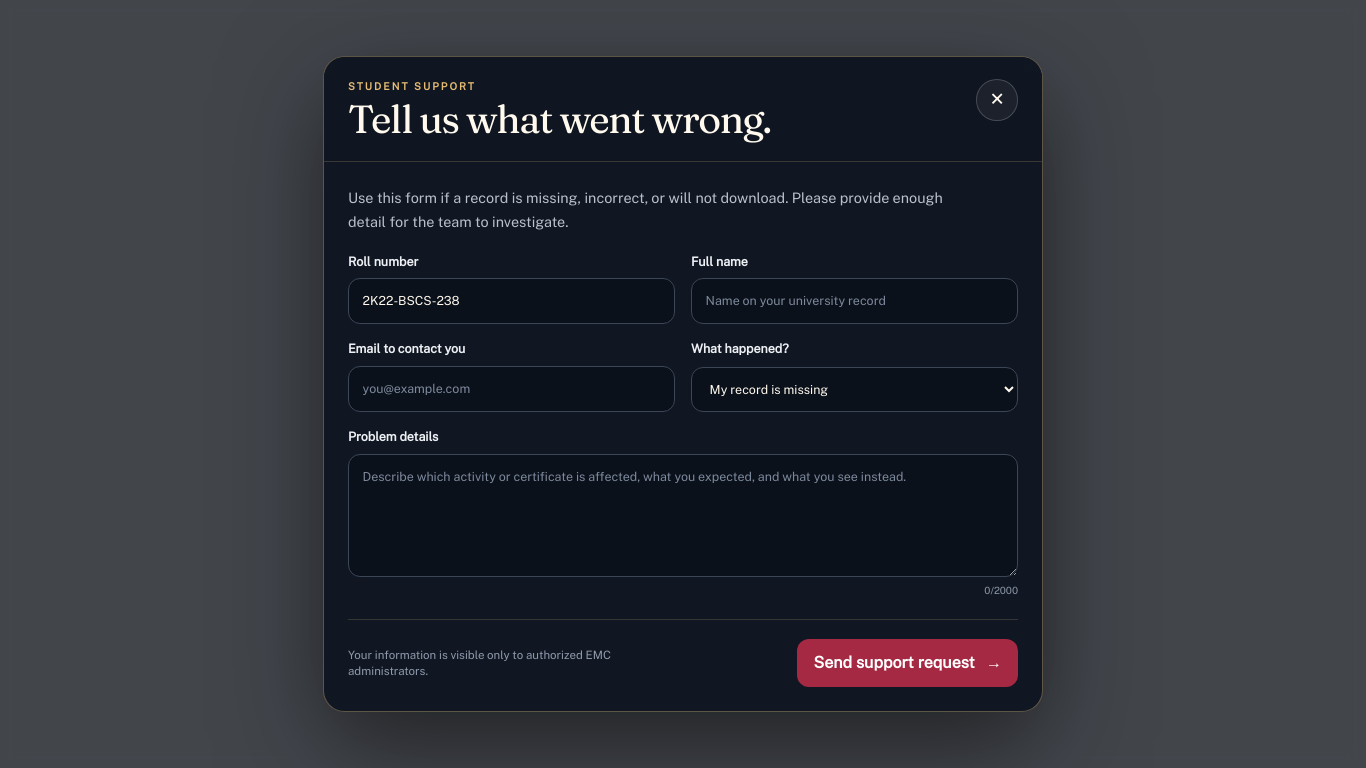
it: submits a student support request and shows its private reference
The width and height of the screenshot is (1366, 768).
Expected: the field showing "2K22-BSCS-238" is shown, [348,278,675,324]
Type "Student Name" into the field labelled "Full name".
click(854, 301); type("Student Name")  # box [691,278,1018,324]
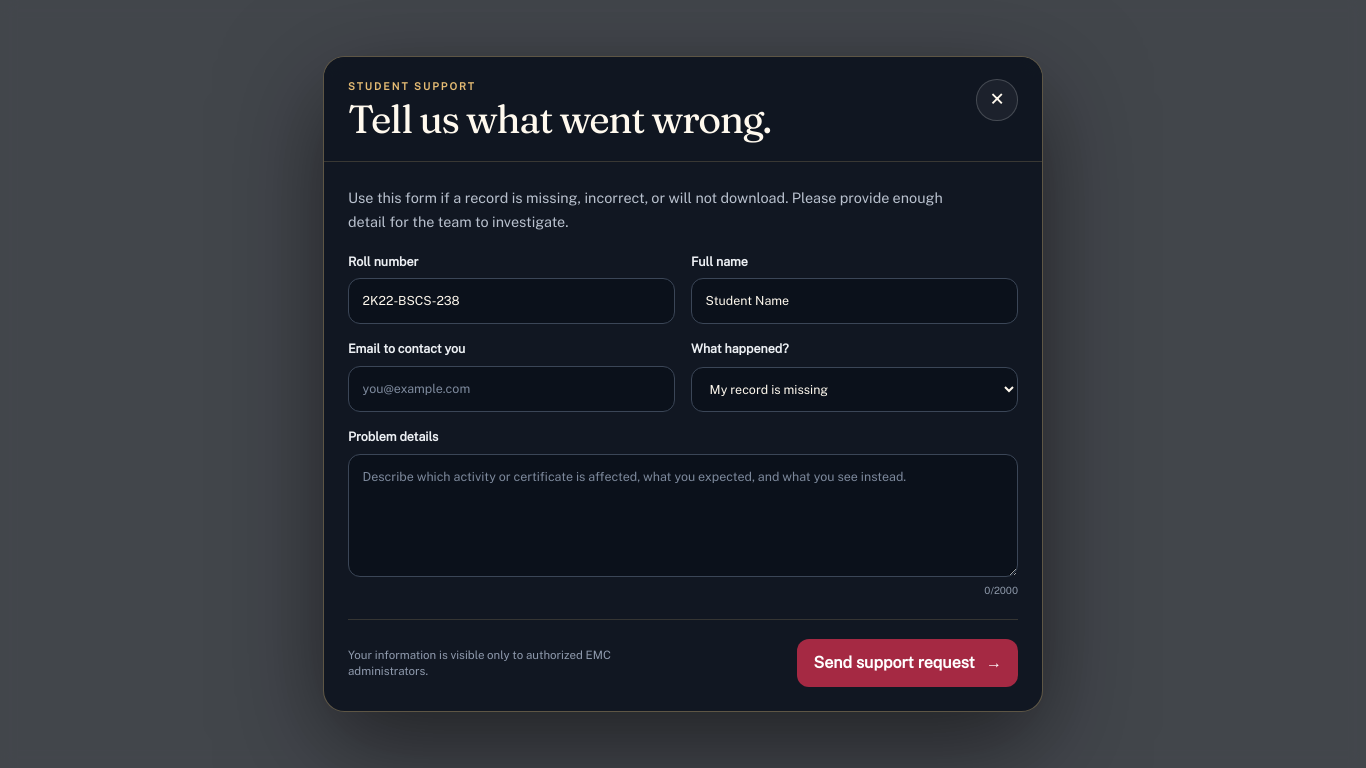
Type "student@example.com" into the field labelled "Email to contact you".
click(512, 389); type("student@example.com")  # box [348,366,675,412]
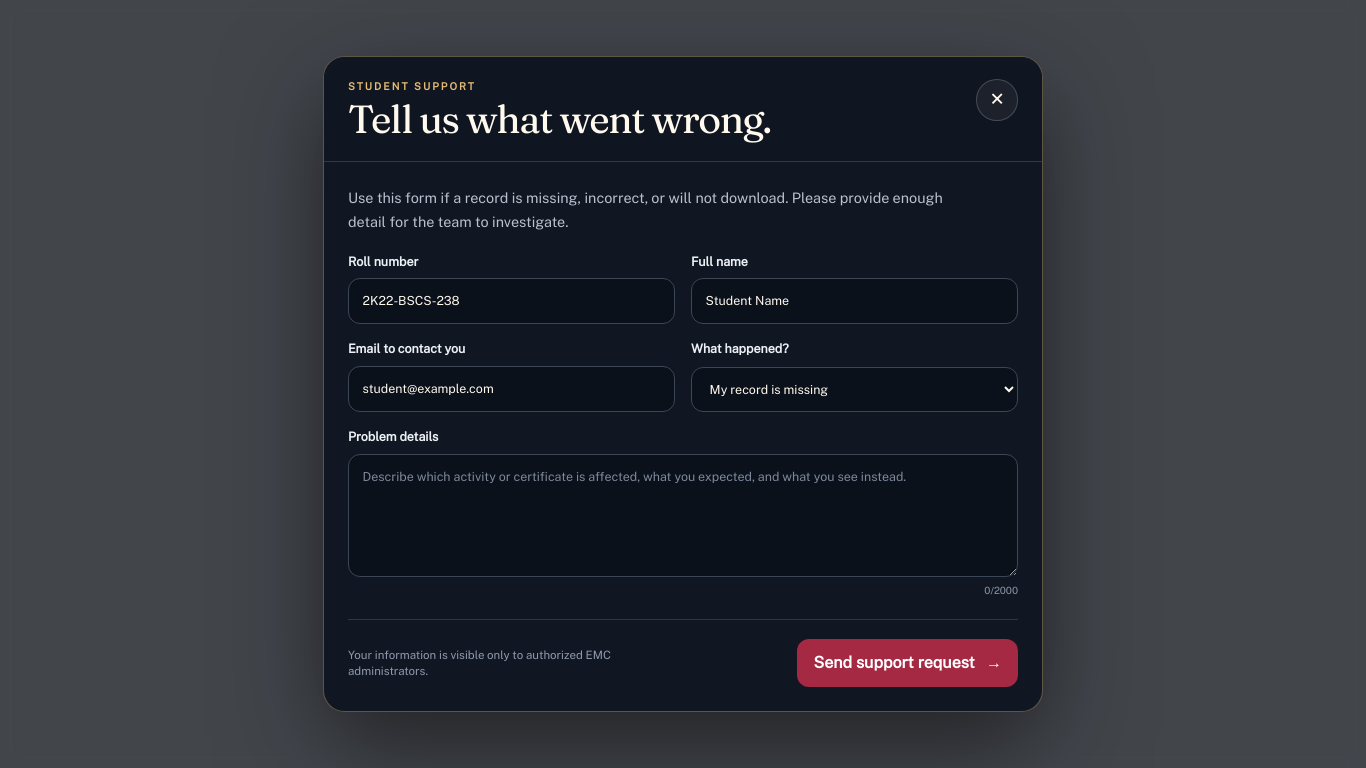
Replace the text in the text box labelled "Problem details 0/2000" with "My activity certificate does not appear." at coordinates (683, 515), box [348,454,1018,577]
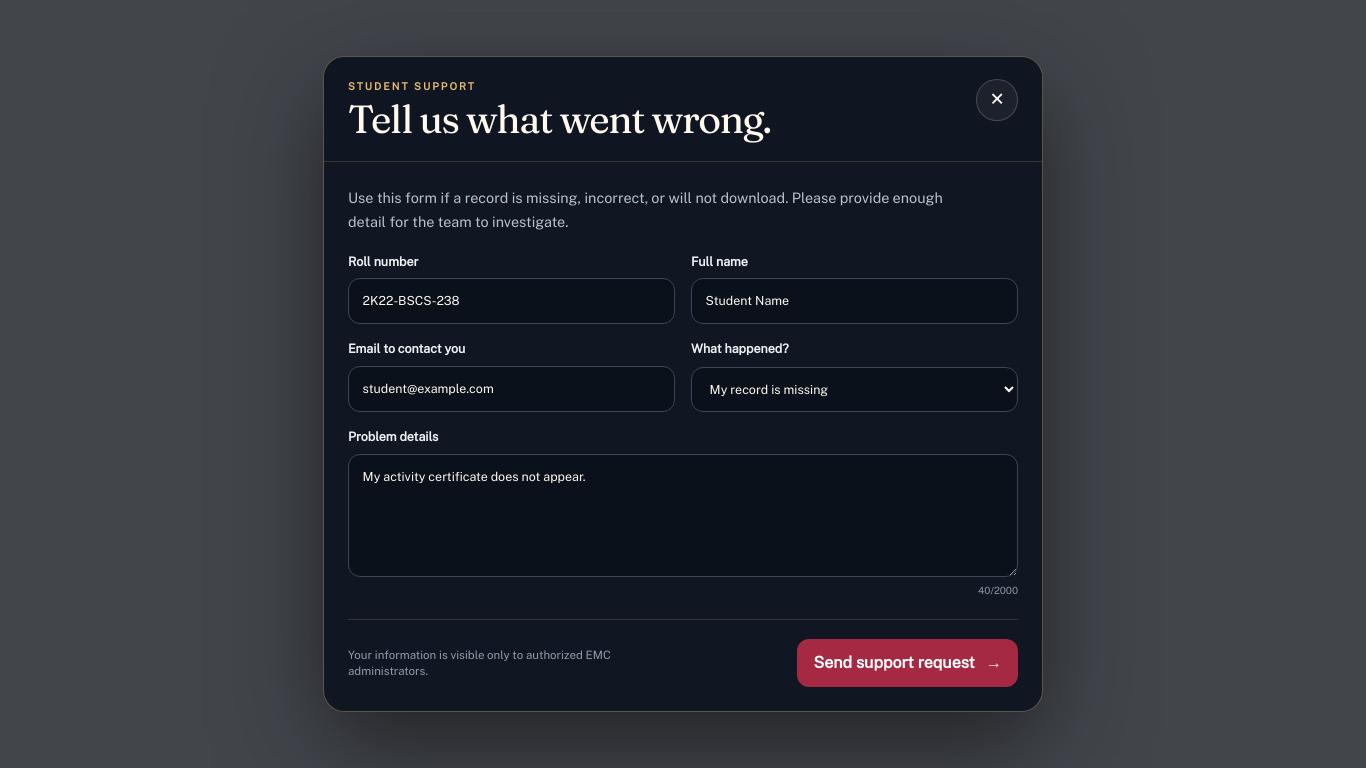
Click the button "Send support request →".
click(908, 663)  # box [798,639,1018,687]
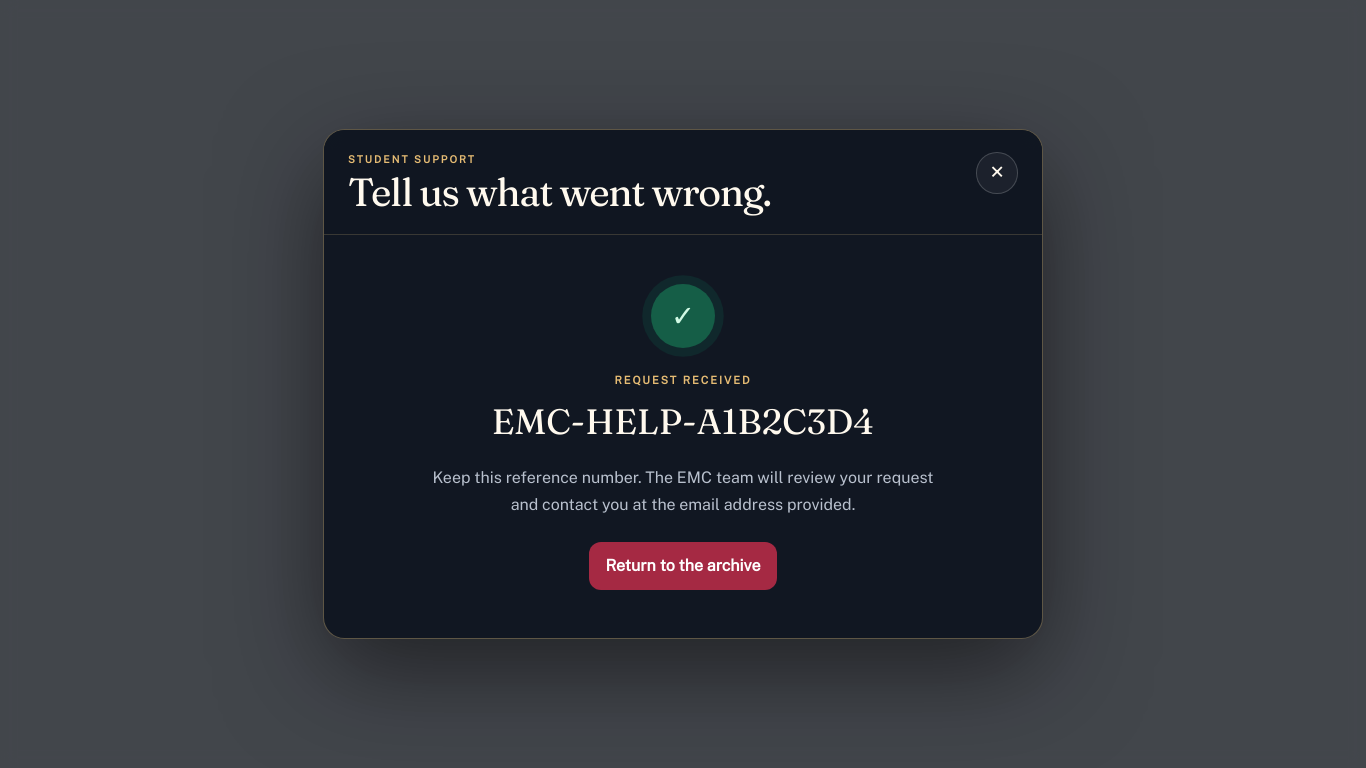
Result: the heading "EMC-HELP-A1B2C3D4" is shown at [492,396,874,449]
